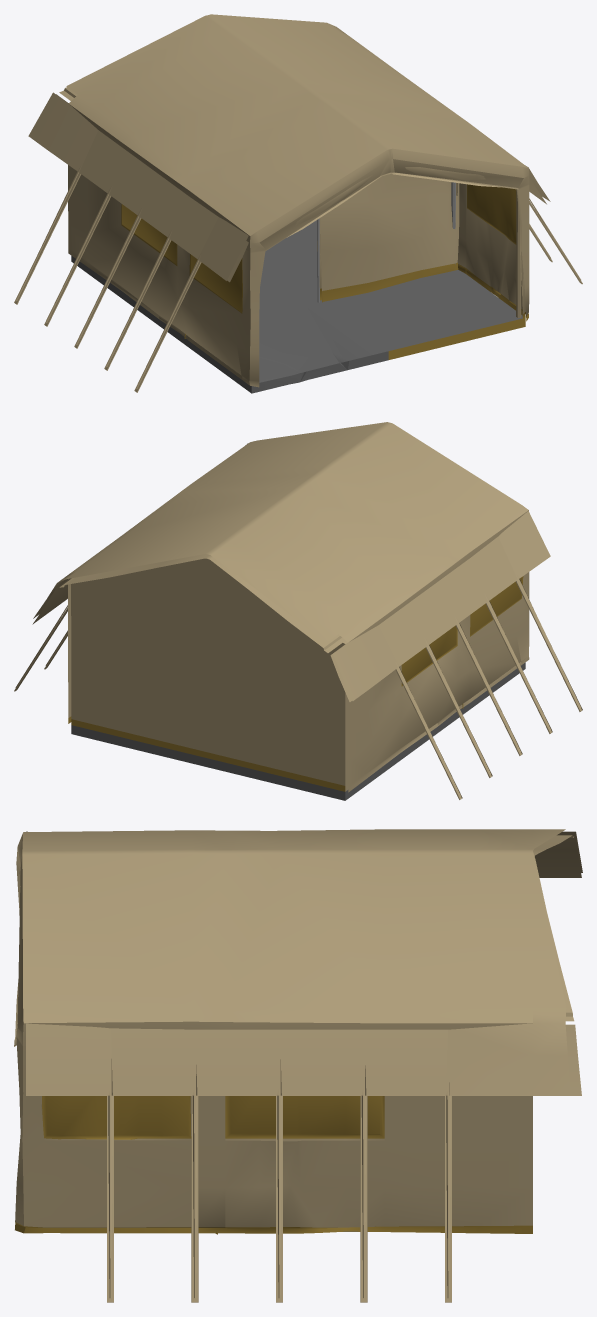
Rendered from tent.fbx.
3 renders of one model, top to bottom at view 1: azimuth 30°, elevation 25°; view 2: azimuth 150°, elevation 25°; view 3: azimuth 270°, elevation 25°, orthographic. The views are drawn at different scales.
Visible parts, largest first — view 1: shadowCaster, tent; view 2: shadowCaster, tent; view 3: shadowCaster, tent.
Part boxes in pixels (box(x1,y1,x2,y2)): shadowCaster: box(15, 14, 581, 389); tent: box(14, 87, 582, 393); shadowCaster: box(15, 422, 581, 796); tent: box(14, 554, 582, 800); shadowCaster: box(14, 829, 582, 1298); tent: box(19, 835, 581, 1302).
Size of the model in its own units: 930 by 429 by 731.
